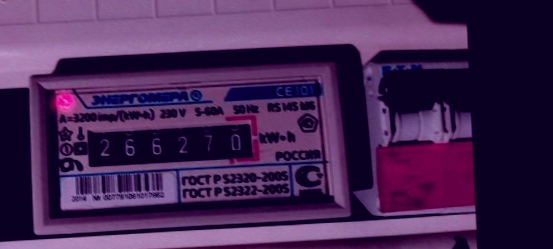0: (229, 130, 242, 152)
2: (97, 135, 112, 157), (176, 133, 189, 154)
6: (123, 136, 137, 157), (149, 135, 163, 155)
7: (201, 131, 215, 153)
screen: (77, 110, 266, 176)
